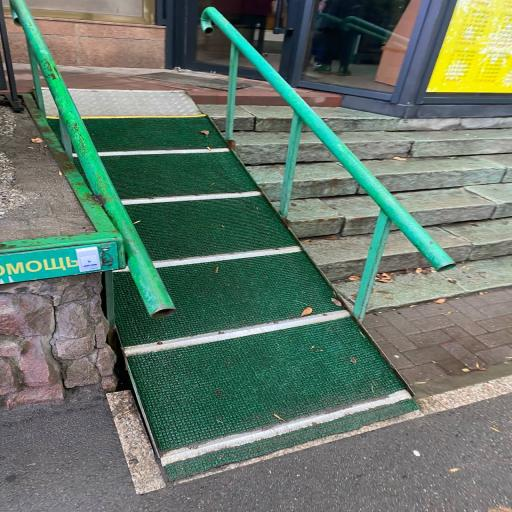entrance: (48, 92, 416, 478)
laptop: (202, 106, 512, 296)
